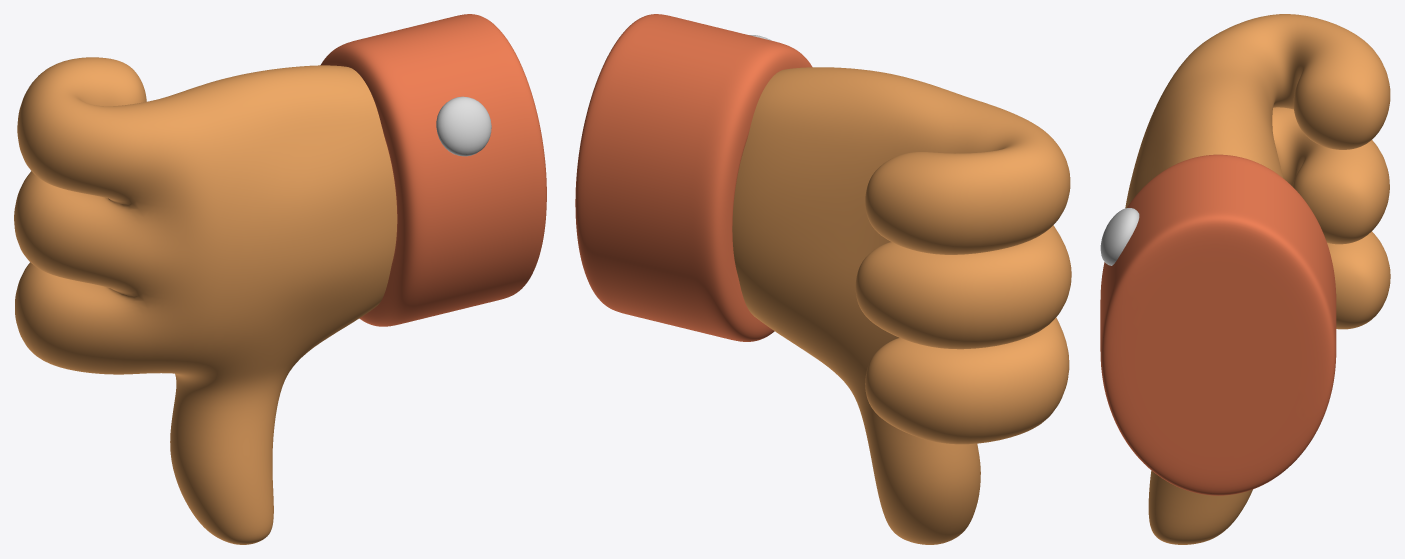
The model's file is thumb-down.glb.
The picture shows the model from 3 angles, left to right: view 1: azimuth 30°, elevation 25°; view 2: azimuth 150°, elevation 25°; view 3: azimuth 270°, elevation 25°; orthographic projection. The views are drawn at different scales.
Parts seen in each view (by area): view 1: thumb down; view 2: thumb down; view 3: thumb down.
Part boxes in pixels (<box>): thumb down: <box>14,14,546,544</box>; thumb down: <box>575,14,1071,544</box>; thumb down: <box>1100,14,1390,544</box>.
Bounding box in the file's own units: 1.88 × 1.81 × 1.04.
